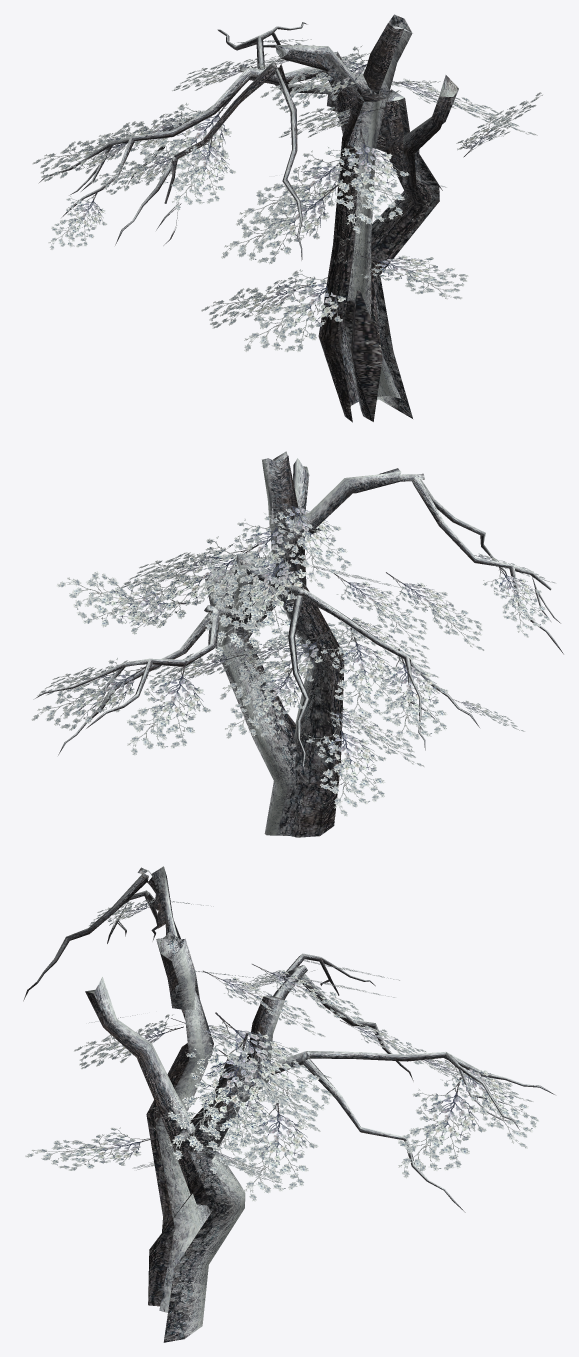
The model's file is S_Tree_White018_A2.FBX.
3 views of the same model, one above another, from view 1: azimuth 30°, elevation 25°; view 2: azimuth 150°, elevation 25°; view 3: azimuth 270°, elevation 25° (orthographic). The views are drawn at different scales.
Visible parts, largest first — view 1: S_Tree_White018_A2; view 2: S_Tree_White018_A2; view 3: S_Tree_White018_A2.
Boxes of the visible parts, left/top/right/bottom form: S_Tree_White018_A2: left=32, top=14, right=542, bottom=422; S_Tree_White018_A2: left=31, top=451, right=563, bottom=837; S_Tree_White018_A2: left=23, top=866, right=554, bottom=1342.
Bounding box in the file's own units: 1066 × 811 × 990.
